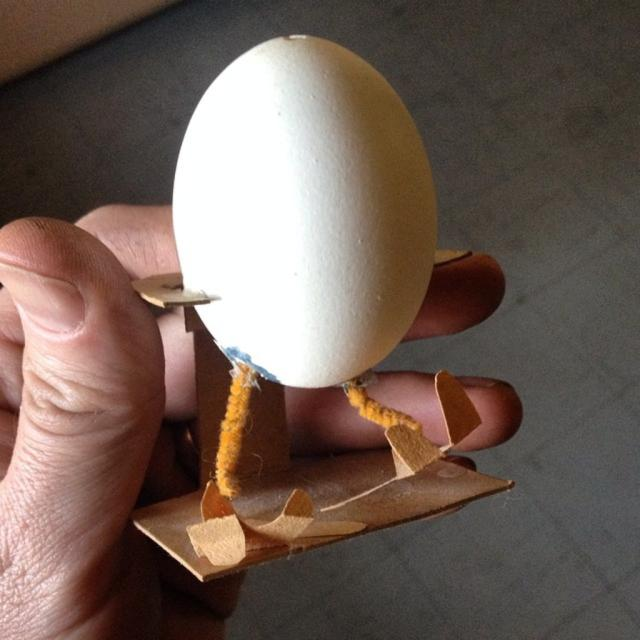Egg: (166, 31, 440, 388)
